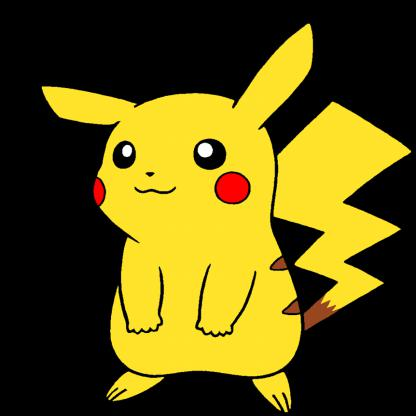Pikachu: (20, 9, 412, 413)
